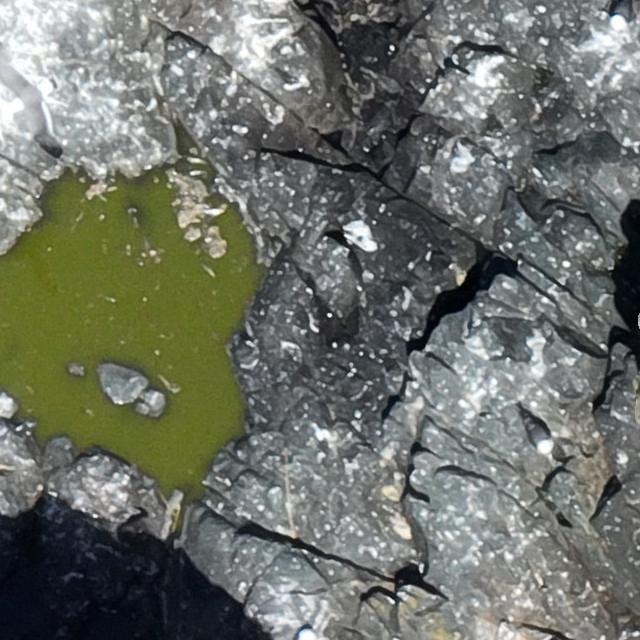umineko: (528, 424, 552, 453), (612, 1, 632, 27)
